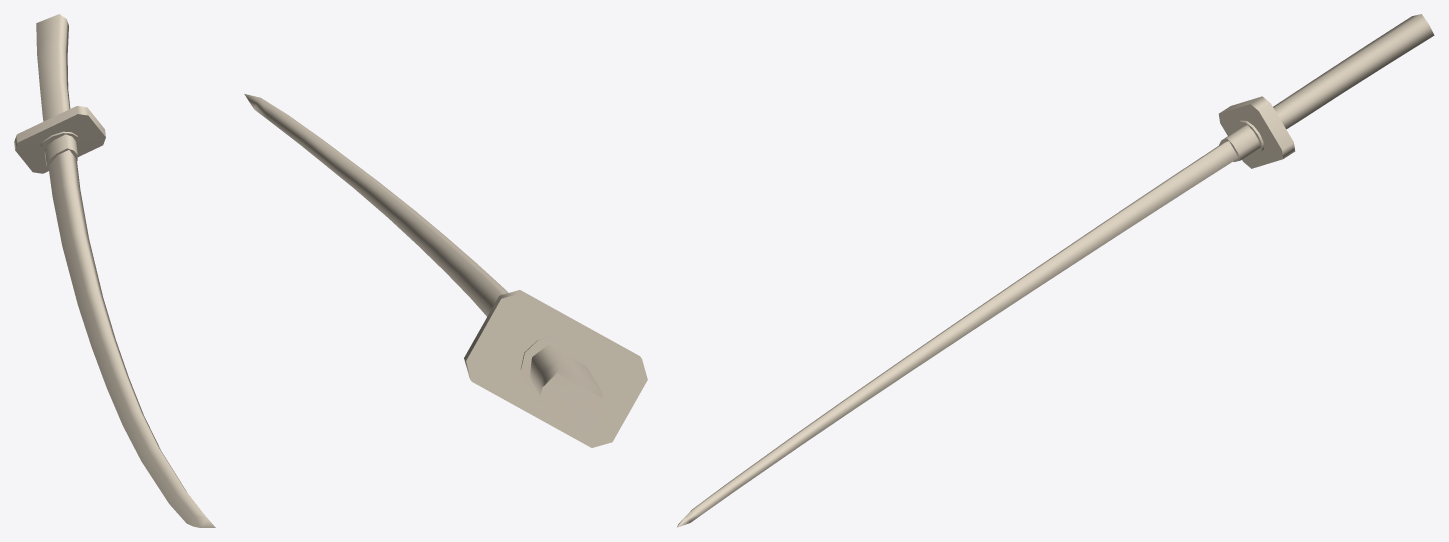
File: rider-weapon-slice-base.glb
The picture shows the model from 3 angles, left to right: view 1: azimuth 30°, elevation 25°; view 2: azimuth 210°, elevation 25°; view 3: azimuth 330°, elevation 25°; orthographic projection. The views are drawn at different scales.
Bounding box in the file's own units: 0.3919 × 0.3057 × 1.09.
